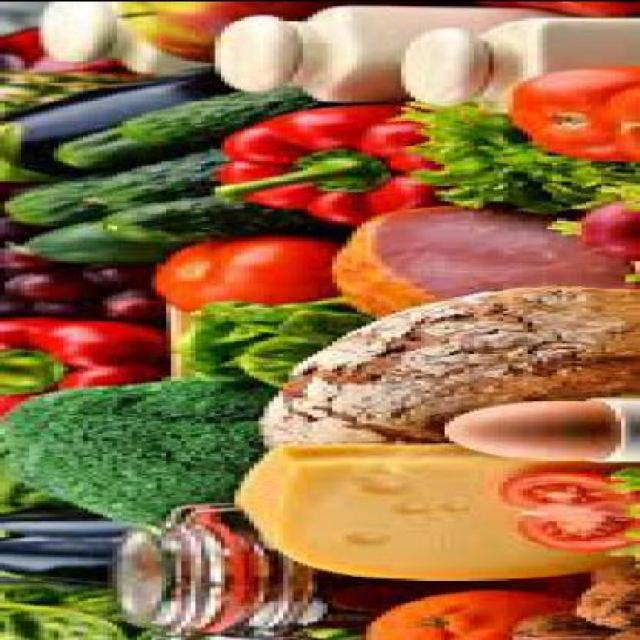BIODEGRADABLE: (250, 290, 636, 447), (226, 445, 634, 581), (1, 381, 268, 527), (322, 204, 635, 318), (191, 103, 440, 225), (387, 106, 636, 220), (0, 67, 225, 184), (0, 319, 162, 419), (176, 301, 372, 382), (147, 238, 347, 314), (283, 574, 523, 632), (102, 2, 327, 63), (103, 86, 312, 149), (503, 69, 635, 162), (494, 474, 635, 552), (439, 401, 621, 461), (356, 592, 590, 638), (93, 194, 302, 243), (68, 149, 215, 208), (15, 222, 166, 266), (39, 130, 190, 172), (0, 29, 123, 77), (0, 584, 109, 638), (0, 536, 117, 586), (0, 178, 98, 227), (0, 511, 123, 542), (571, 202, 635, 261), (571, 582, 635, 629), (508, 611, 612, 638), (600, 88, 634, 166), (474, 2, 635, 18), (0, 274, 83, 301), (73, 264, 147, 288), (586, 554, 636, 586), (98, 296, 156, 321), (0, 248, 49, 272), (25, 301, 92, 314), (595, 630, 637, 638), (1, 299, 19, 315)
GLASS: (107, 512, 571, 638)
